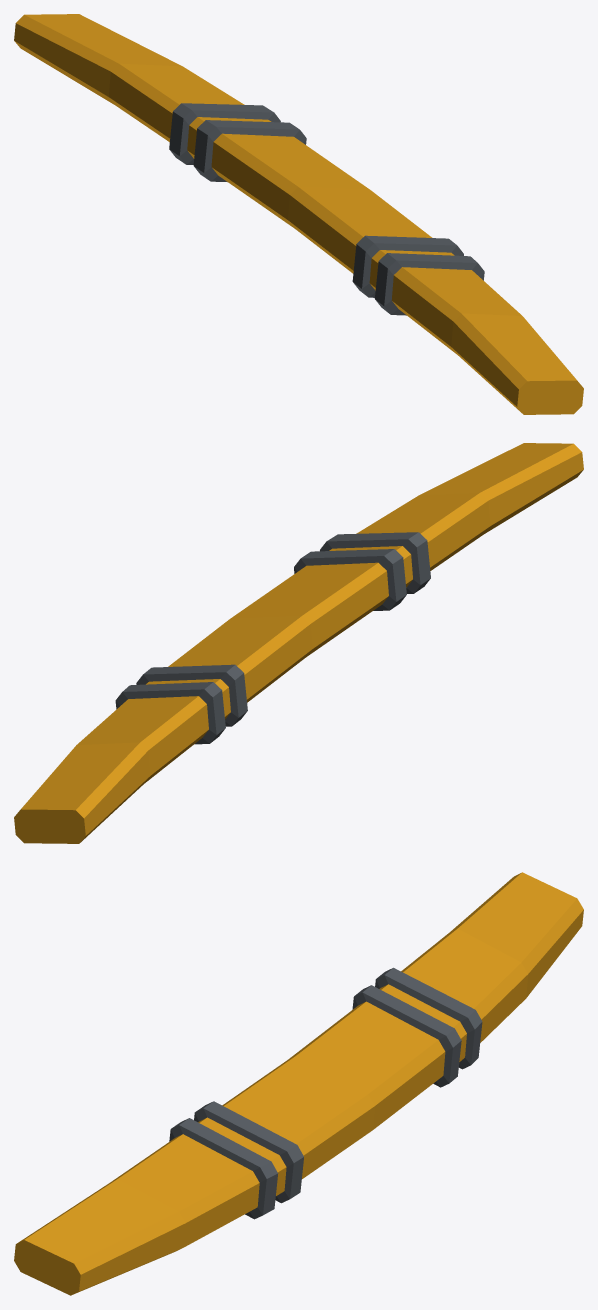
Rendered from Mothership_02_Glider_Right_Yellow.fbx.
The picture shows the model from 3 angles, top to bottom: view 1: azimuth 30°, elevation 25°; view 2: azimuth 150°, elevation 25°; view 3: azimuth 330°, elevation 25°; orthographic projection.
Visible parts, largest first — view 1: Mothership_02_Glider_Right_Yellow; view 2: Mothership_02_Glider_Right_Yellow; view 3: Mothership_02_Glider_Right_Yellow.
Part boxes in pixels (left/top/right/bottom): Mothership_02_Glider_Right_Yellow: left=14, top=14, right=583, bottom=414; Mothership_02_Glider_Right_Yellow: left=14, top=443, right=583, bottom=843; Mothership_02_Glider_Right_Yellow: left=14, top=872, right=583, bottom=1295.
Bounding box in the file's own units: 292 × 182 × 2166.
1 material, 1 textured.
